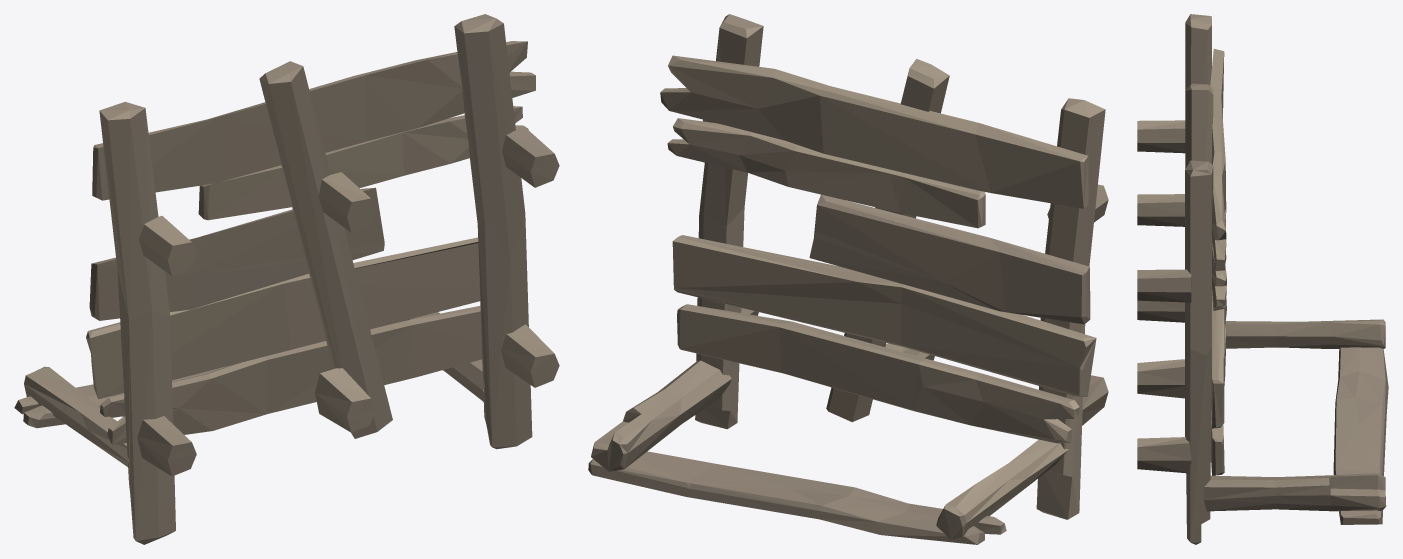
File: bridge_pier_04c.glb
3 views of the same model, side by side, from view 1: azimuth 30°, elevation 25°; view 2: azimuth 150°, elevation 25°; view 3: azimuth 270°, elevation 25° (orthographic). The views are drawn at different scales.
Parts seen in each view (by area): view 1: estructura.puente.env_bridge_pier_04c; view 2: estructura.puente.env_bridge_pier_04c; view 3: estructura.puente.env_bridge_pier_04c.
Boxes of the visible parts, box(x1,y1,x2,y2) form: estructura.puente.env_bridge_pier_04c: box(14, 14, 559, 544); estructura.puente.env_bridge_pier_04c: box(588, 14, 1108, 544); estructura.puente.env_bridge_pier_04c: box(1137, 14, 1388, 544).
Bounding box in the file's own units: 3.58 × 3.35 × 2.06.
